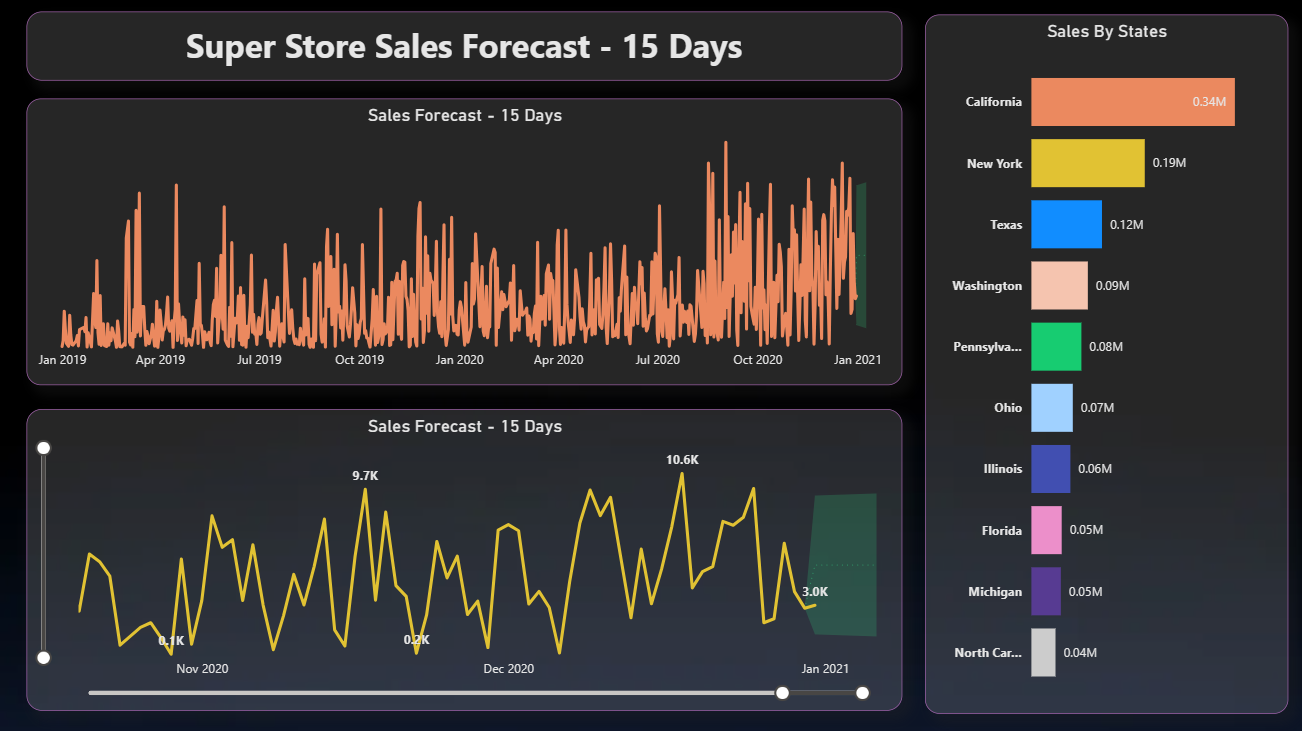

The dashboard page shown, as its layout file describes it:
{"tool":"powerbi","page":{"name":"Page 2","canvas":[1280,720],"ordinal":1},"visuals":[{"type":"lineChart","title":"Sales Forecast - 15 Days","fields":{"Y":["Sum(Sheet1.Sales)"],"Category":["Sheet1.Order Date"]},"box":[30.7,100.8,853.5,279.1],"z":0},{"type":"lineChart","title":"Sales Forecast - 15 Days","fields":{"Y":["Sum(Sheet1.Sales)"],"Category":["Sheet1.Order Date"]},"box":[30.7,403.4,853.5,293.8],"z":1000},{"type":"barChart","title":"Sales By States","fields":{"Y":["Sum(Sheet1.Sales)"],"Category":["Sheet1.State"]},"box":[906.1,19,353.7,681],"z":2000},{"type":"textbox","box":[30.7,16.1,853.5,67.2],"z":3000}]}

Visuals, with their boxes in screenshot pixels (x1, y1, x2, y2), scaled from the page's 1280x720 canvas onto the 1302x731 screenshot:
"Sales Forecast - 15 Days" lineChart: select_region(31, 102, 899, 386)
"Sales Forecast - 15 Days" lineChart: select_region(31, 410, 899, 708)
"Sales By States" barChart: select_region(922, 19, 1281, 711)
textbox: select_region(31, 16, 899, 85)
